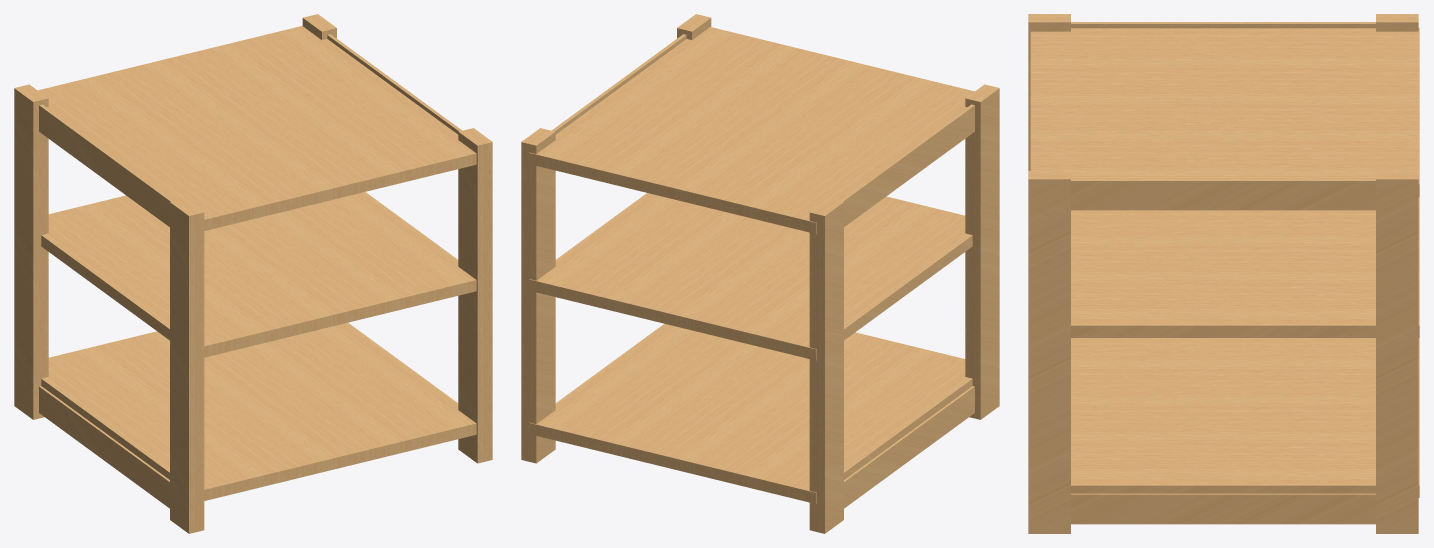
File: sh-contrib-pinewood-rack-low-height.glb
3 views of the same model, side by side, from view 1: azimuth 30°, elevation 25°; view 2: azimuth 150°, elevation 25°; view 3: azimuth 270°, elevation 25° (orthographic). The views are drawn at different scales.
Parts seen in each view (by area): view 1: rack; view 2: rack; view 3: rack.
Part boxes in pixels (x1,y1,x2,y2): rack: (14, 14, 492, 533); rack: (521, 14, 999, 533); rack: (1028, 14, 1419, 533).
Bounding box in the file's own units: 1 × 1 × 1.
1 material, 1 textured.
